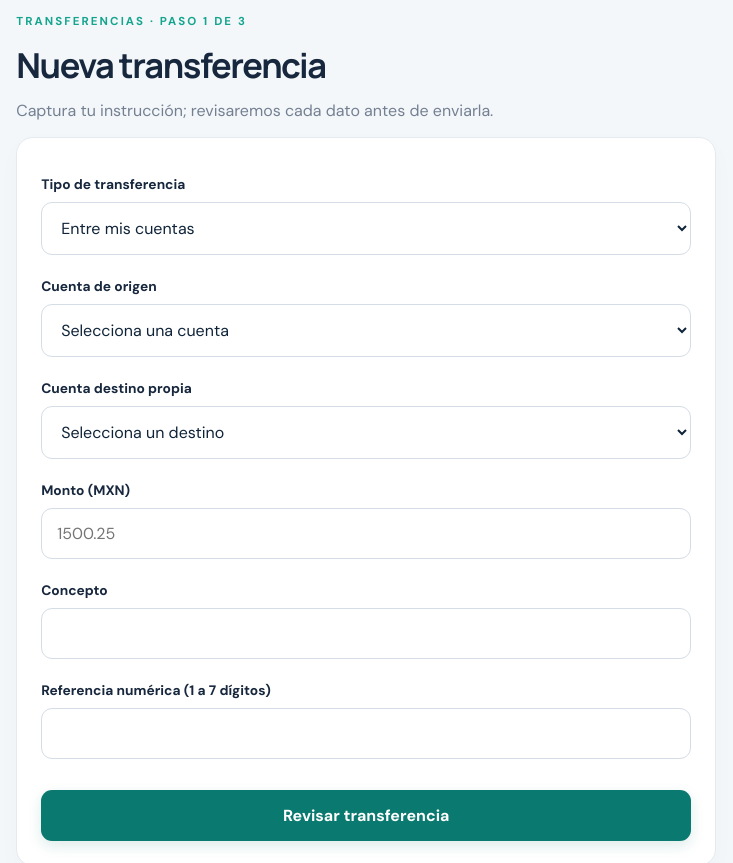
Scenario: T-23 flujo de transferencias web › no envía transferencias con campos inválidos
The image size is (733, 863).
Click the button "Revisar transferencia".
click(366, 815)  # box [41,790,691,841]
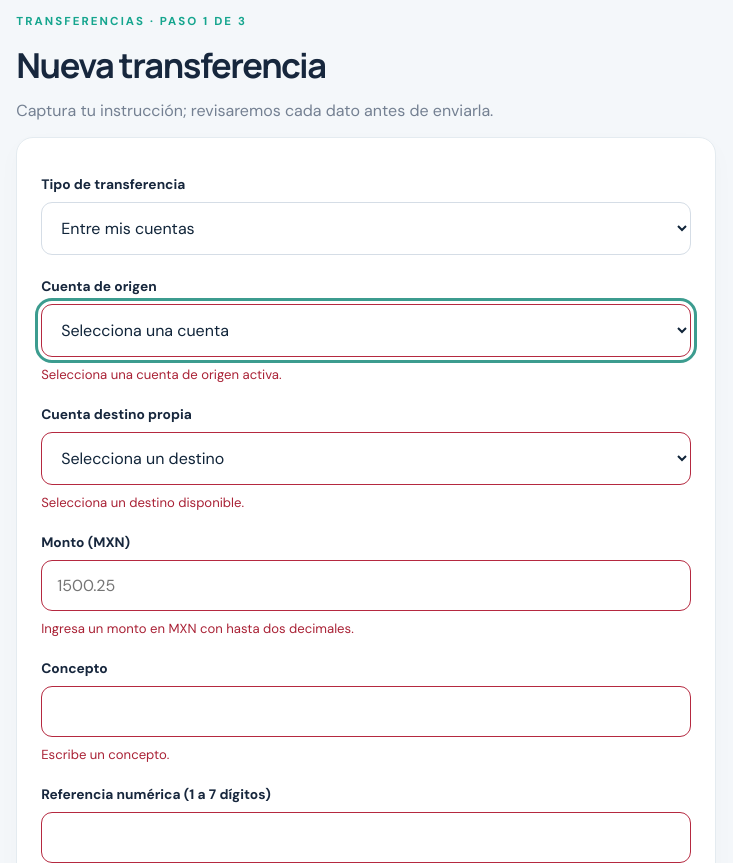
Now the text "Selecciona una cuenta de origen activa." is shown, box [41,366,282,383]
